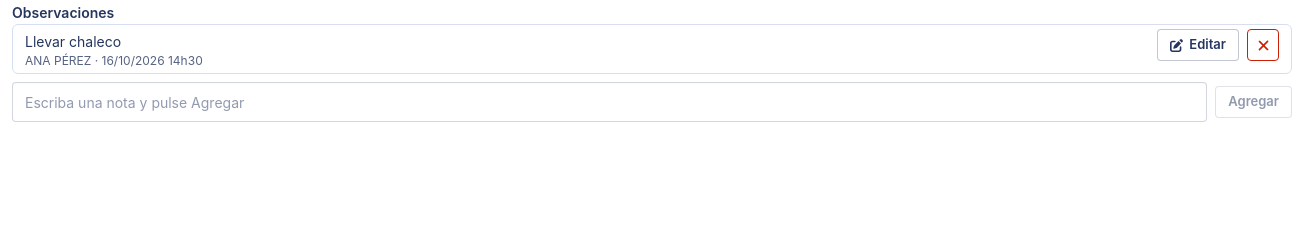
Test case: ObservacionesOperativo · corregir una nota de la sesión › «Editar» abre la nota en un texto precargado; Enter guarda y conserva la hora
The image size is (1304, 227).
Click the button with aria-label "Editar la nota: Llevar chaleco" at (1198, 45), box [1157,29,1239,61]
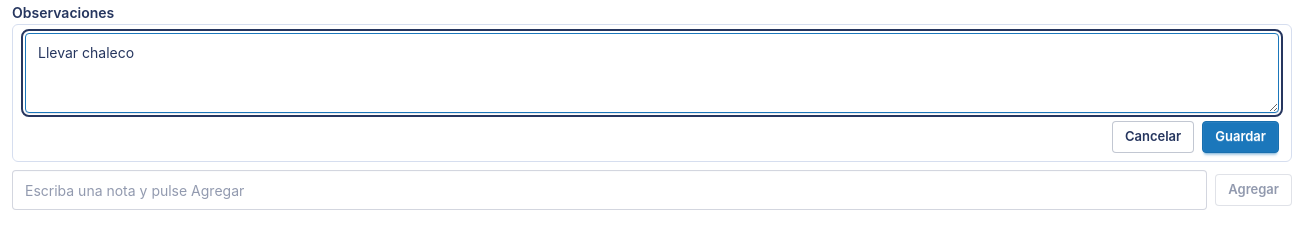
Expected: the text box named "Corregir la nota: Llevar chaleco" holds "Llevar chaleco"
Type "s reflectivos" into the text box named "Corregir la nota: Llevar chaleco" at (652, 73), box [25,33,1279,113]
Then press Enter
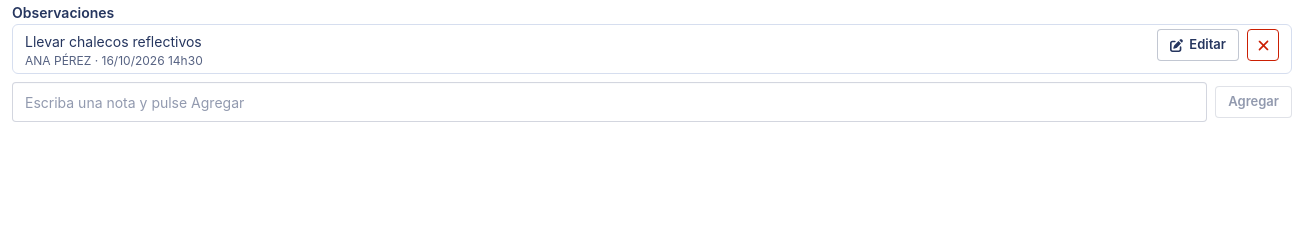
Expected: the text "Llevar chalecos reflectivos" is shown, [25,33,202,50]
